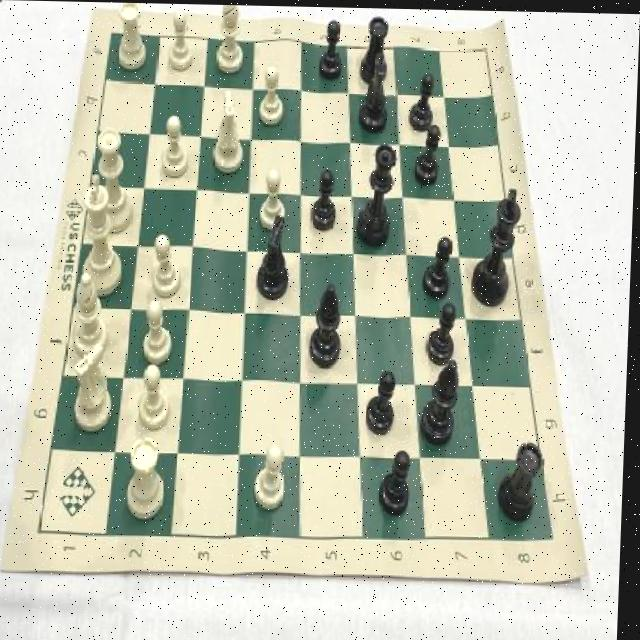bishop: (423, 349, 464, 445), (311, 280, 348, 367)
black-bishop: (471, 179, 526, 306)
black-king: (253, 215, 297, 302), (355, 48, 392, 131)
black-knight: (381, 447, 416, 521), (365, 366, 400, 432), (426, 298, 461, 363), (423, 231, 455, 300), (309, 167, 340, 231), (413, 123, 444, 186), (316, 17, 345, 83), (410, 70, 437, 131)
black-pawn: (358, 139, 398, 245)
black-queen: (500, 432, 545, 519), (356, 13, 394, 85)
black-rook: (71, 269, 114, 357), (215, 4, 246, 76)
white-bishop: (77, 172, 128, 298)
white-king: (72, 342, 119, 434), (210, 87, 248, 176)
white-knight: (254, 439, 292, 512), (140, 359, 176, 432), (148, 232, 186, 295), (256, 60, 289, 128), (159, 113, 192, 178), (164, 6, 196, 72), (144, 295, 175, 363), (259, 164, 288, 230)
white-pawn: (92, 123, 140, 236)
white-queen: (127, 429, 170, 518), (112, 2, 152, 70)
